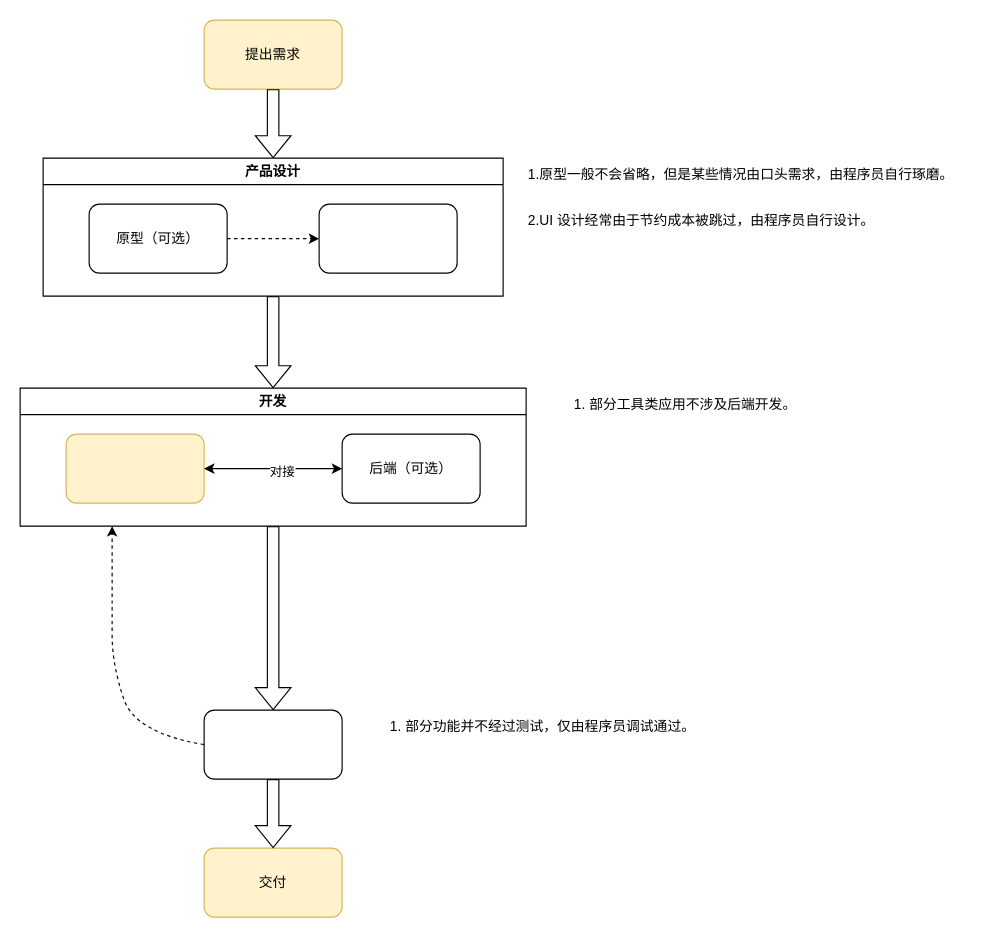
Image size: 995x937. Some labels were removed from this diagram. The centre of each missing label's shape, as x and y in pixels:
UI 设计（可选）: pixel 387 238
前端: pixel 134 468
测试（可选）: pixel 272 744
